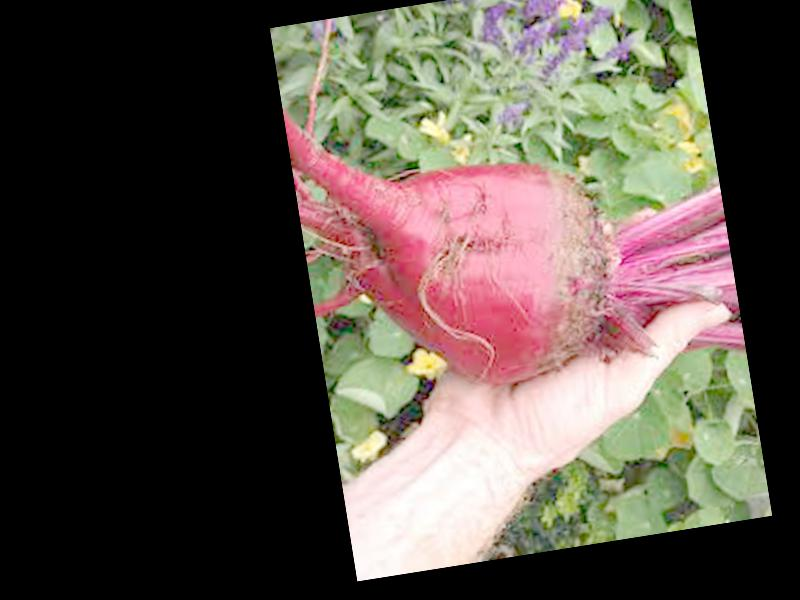Beet: (283, 51, 742, 412)
